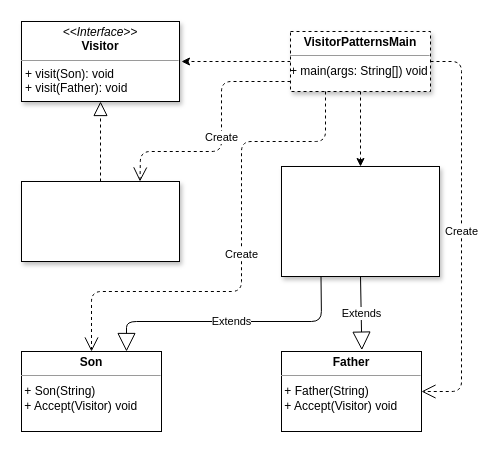
The diagram is 495 pixels wide and 449 high, and some of its shapes have lost their labels. The centre of each missing label's shape, as x and y in pixels:
Family abstract + Family(String) + Accept(Visitor) void - action String: (x=361, y=223)
FamilyVisitor + visit(Son): void + visit(Father): void: (x=101, y=222)
